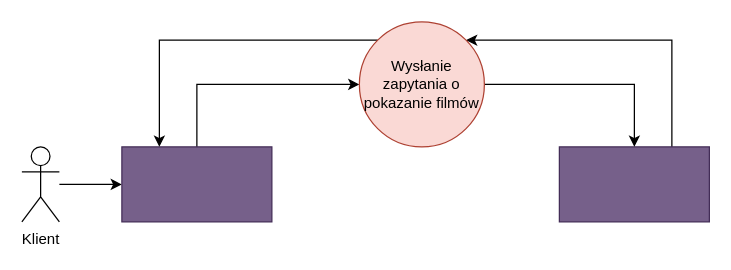
The diagram is 731 pixels wide and 270 high, and some of its shapes have lost their labels. The shapes that lost their labels are listed below. From the top down, each one's centre as x and y in pixels, then its label:
At pixel 196 184: "Aplikacja internetowa".
At pixel 633 184: "Serwer".
